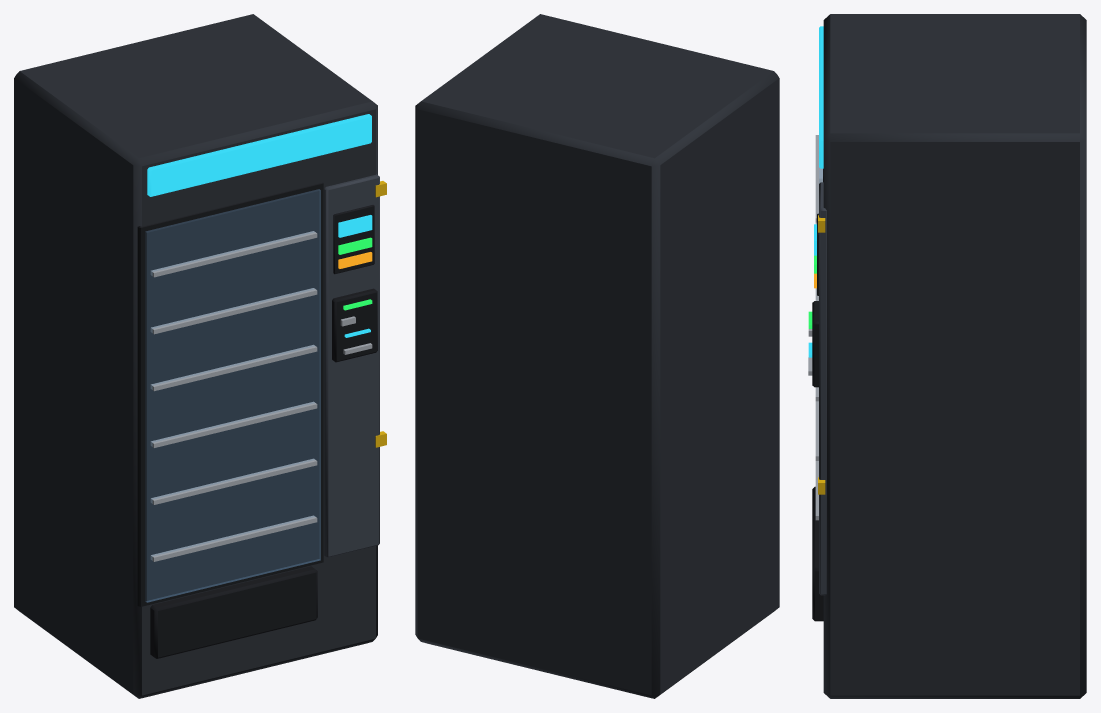
File: vending_tech_parts_machine.glb
3 views of the same model, side by side, from view 1: azimuth 30°, elevation 25°; view 2: azimuth 150°, elevation 25°; view 3: azimuth 270°, elevation 25° (orthographic). The views are drawn at different scales.
Parts seen in each view (by area): view 1: vending_tech_parts_machine; view 2: vending_tech_parts_machine; view 3: vending_tech_parts_machine.
Part boxes in pixels (bbox=[...]): vending_tech_parts_machine: bbox=[14, 14, 386, 698]; vending_tech_parts_machine: bbox=[415, 14, 779, 698]; vending_tech_parts_machine: bbox=[808, 14, 1086, 698].
Bounding box in the file's own units: 0.91 × 1.9 × 0.847.
